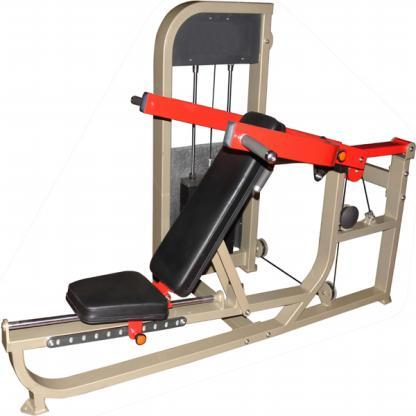shoulder press machine: (2, 2, 416, 416)
